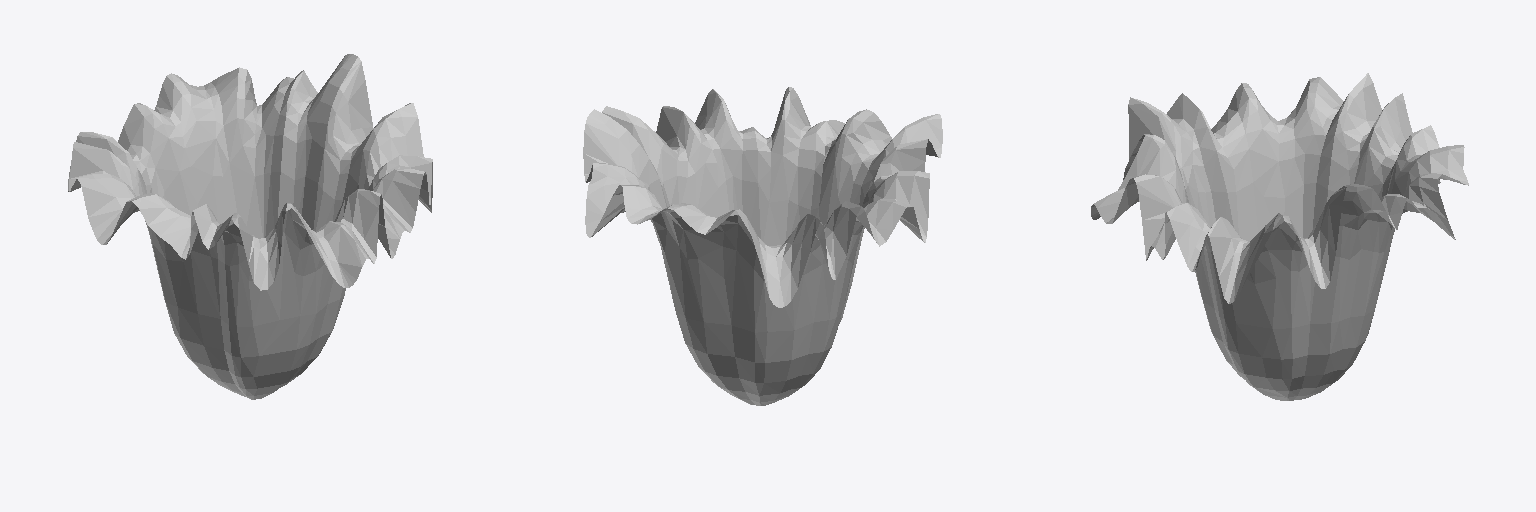
Rendered from flower1.obj.
3 renders of one model, left to right at view 1: azimuth 30°, elevation 25°; view 2: azimuth 150°, elevation 25°; view 3: azimuth 270°, elevation 25°, orthographic.
Visible parts, largest first — view 1: Skinned_Object_1_6.001; view 2: Skinned_Object_1_6.001; view 3: Skinned_Object_1_6.001.
Part boxes in pixels (left/top/right/bottom): Skinned_Object_1_6.001: left=68, top=54, right=432, bottom=399; Skinned_Object_1_6.001: left=583, top=87, right=942, bottom=405; Skinned_Object_1_6.001: left=1091, top=73, right=1468, bottom=400.
Size of the model in its own units: 1.27 by 1.05 by 1.3.